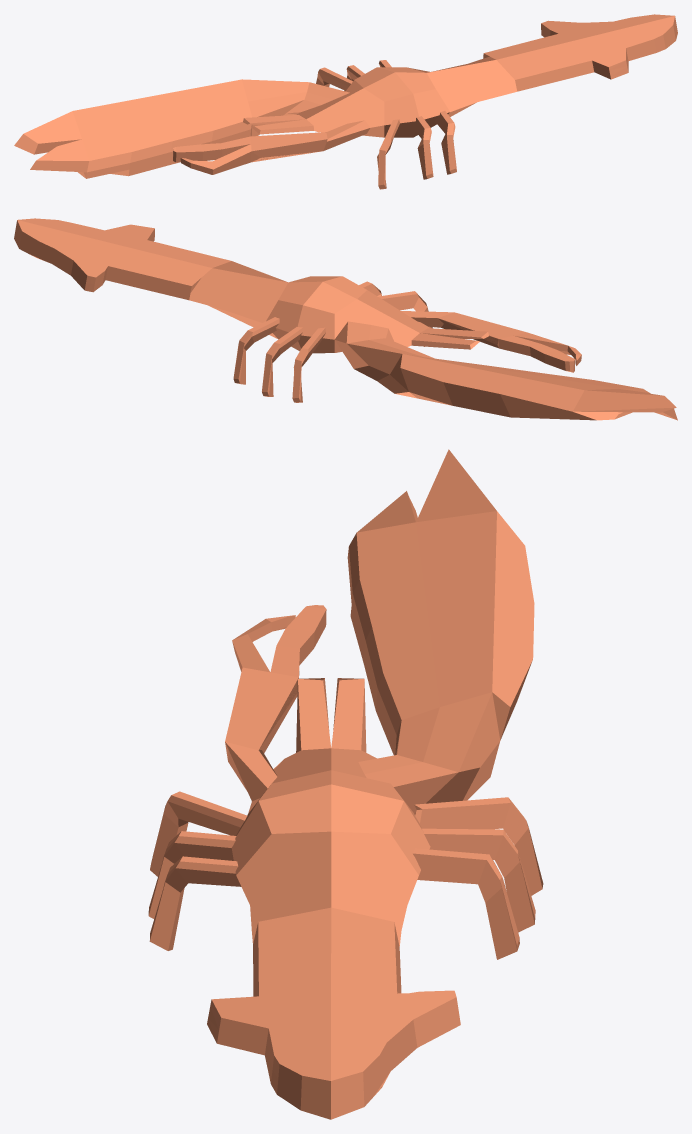
The model's file is pistol_shrimp.glb.
3 renders of one model, top to bottom at view 1: azimuth 30°, elevation 25°; view 2: azimuth 150°, elevation 25°; view 3: azimuth 270°, elevation 25°, orthographic. The views are drawn at different scales.
Parts seen in each view (by area): view 1: Cube; view 2: Cube; view 3: Cube.
Part boxes in pixels (x1,y1,x2,y2): Cube: [14, 14, 677, 189]; Cube: [14, 218, 677, 420]; Cube: [148, 449, 543, 1119].
Bounding box in the file's own units: 18.49 × 2.14 × 4.97.
1 material, 1 textured.
